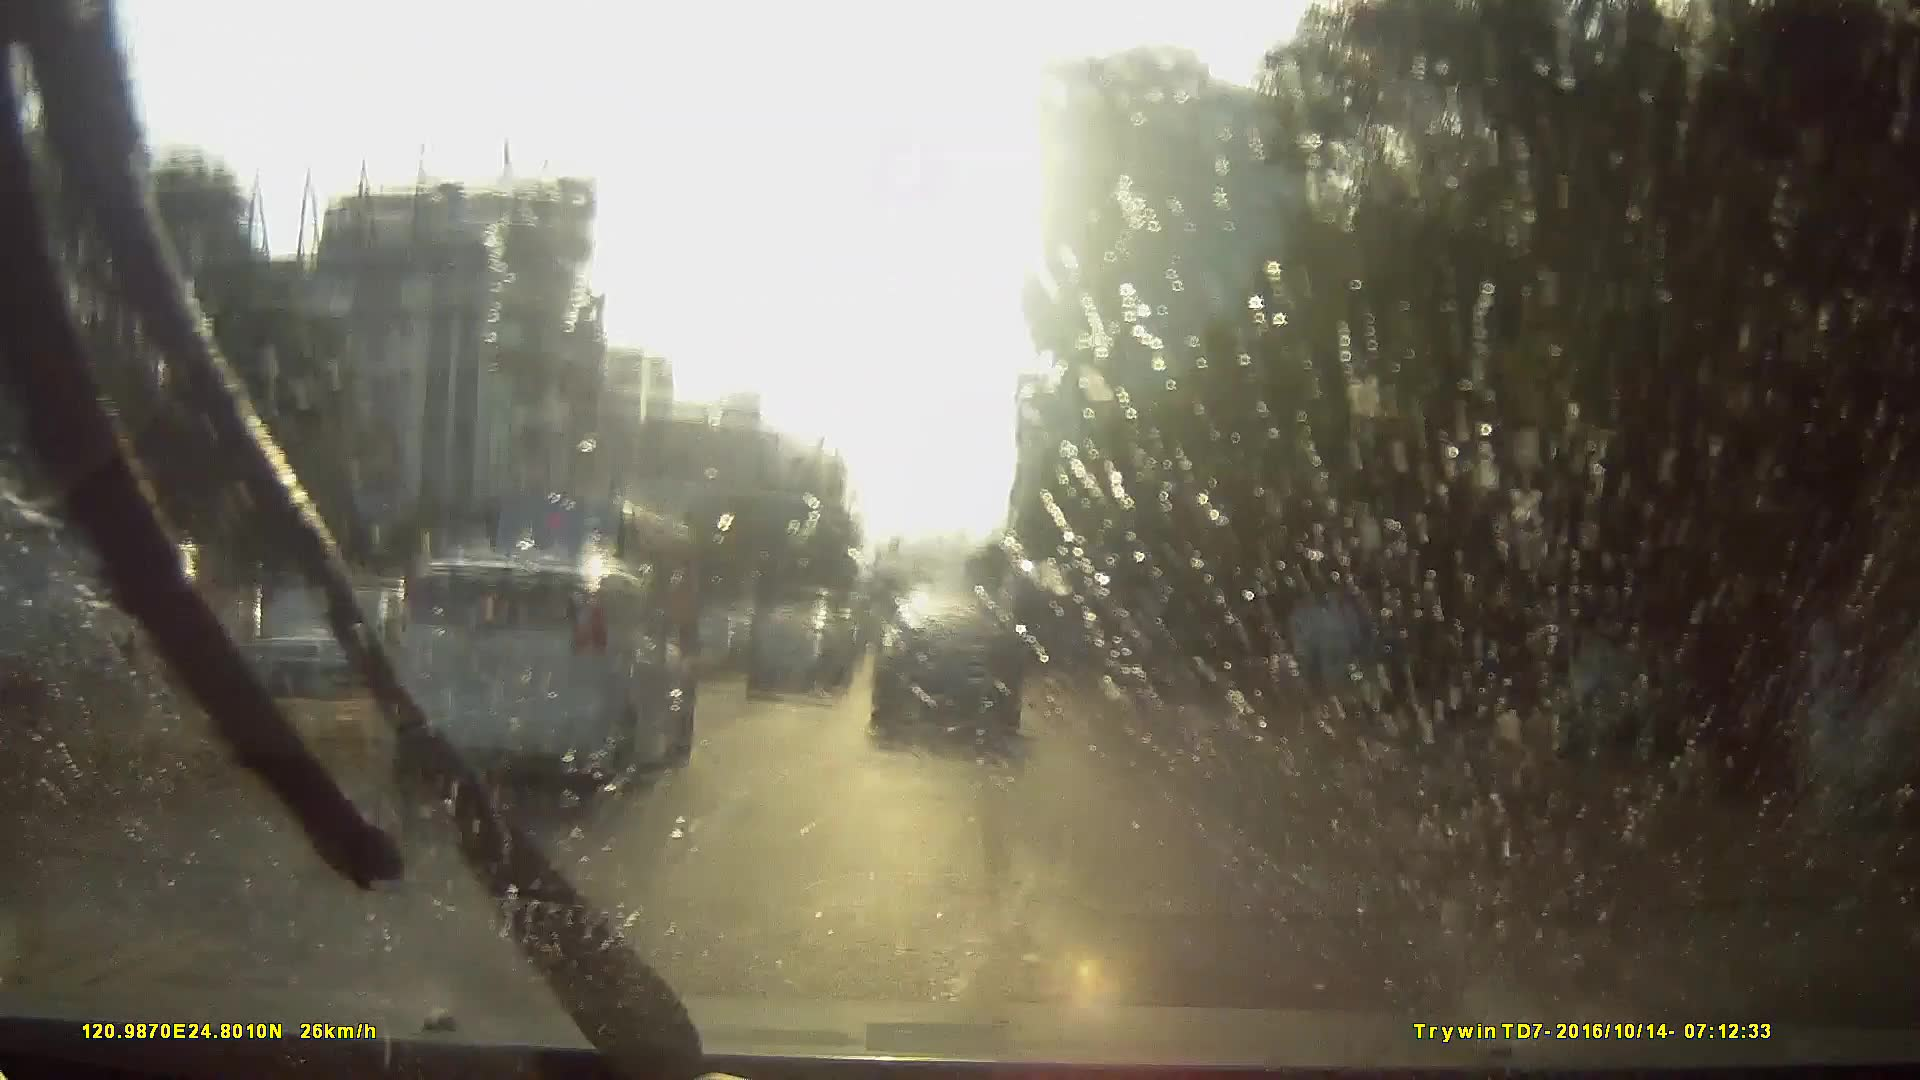vehicle: (251, 556, 684, 868), (385, 547, 698, 793), (455, 487, 717, 676), (870, 597, 1023, 756), (997, 558, 1102, 684), (737, 611, 847, 698), (866, 638, 915, 687)
